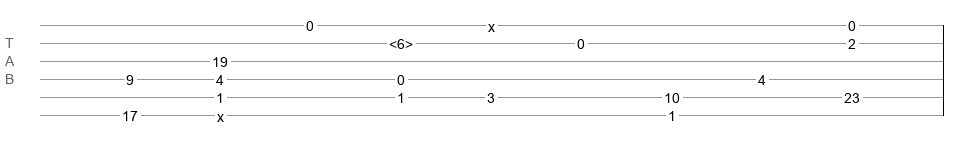0: (306, 18, 314, 28), (397, 72, 405, 82), (577, 36, 585, 46), (848, 18, 856, 28)
1: (216, 90, 224, 100), (397, 90, 405, 100), (668, 108, 676, 118)
10: (664, 90, 680, 100)
17: (122, 108, 138, 118)
19: (212, 54, 228, 64)
2: (848, 36, 856, 46)
23: (844, 90, 860, 100)
3: (487, 90, 495, 100)
4: (216, 72, 224, 82), (758, 72, 766, 82)
9: (126, 72, 134, 82)
harmonic: (389, 36, 413, 46)
x: (217, 109, 224, 117), (488, 19, 495, 27)
